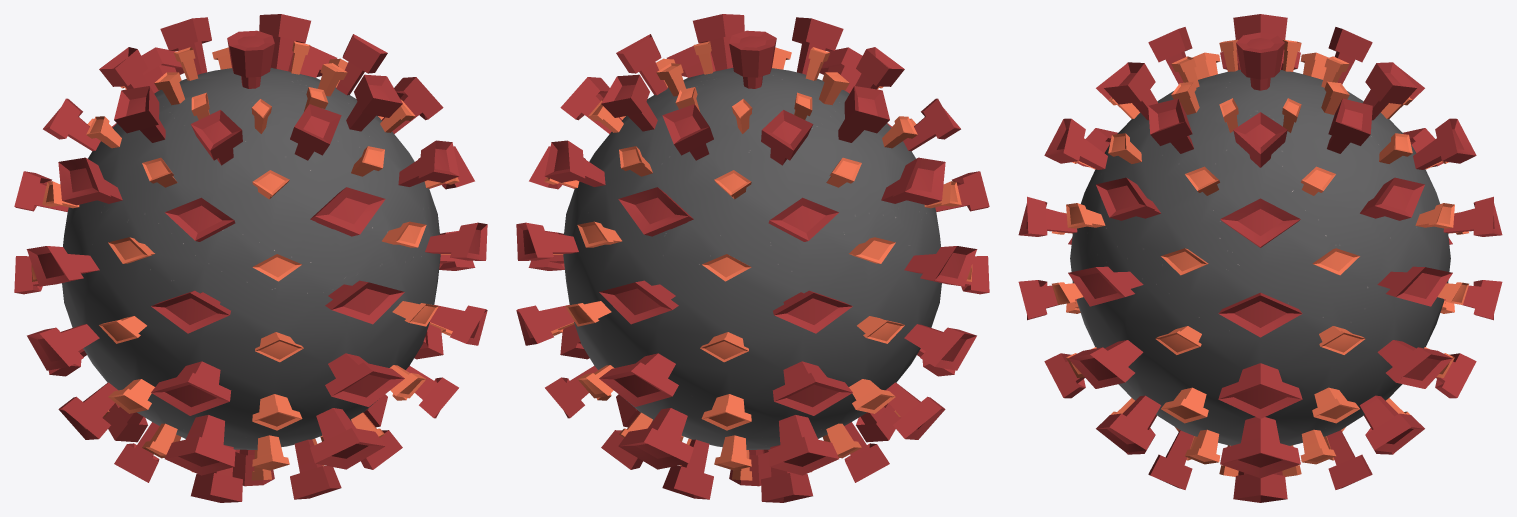
Rendered from COVID19VirusNoLight.fbx.
3 views of the same model, side by side, from view 1: azimuth 30°, elevation 25°; view 2: azimuth 150°, elevation 25°; view 3: azimuth 270°, elevation 25° (orthographic).
Visible parts, largest first — view 1: COVID19Virus_geo; view 2: COVID19Virus_geo; view 3: COVID19Virus_geo.
Part boxes in pixels (left/top/right/bottom): COVID19Virus_geo: left=14, top=14, right=487, bottom=502; COVID19Virus_geo: left=516, top=14, right=989, bottom=502; COVID19Virus_geo: left=1018, top=14, right=1502, bottom=502.
Bounding box in the file's own units: 1.53 × 1.5 × 1.53.
Materials: 1 (1 with a texture image).
